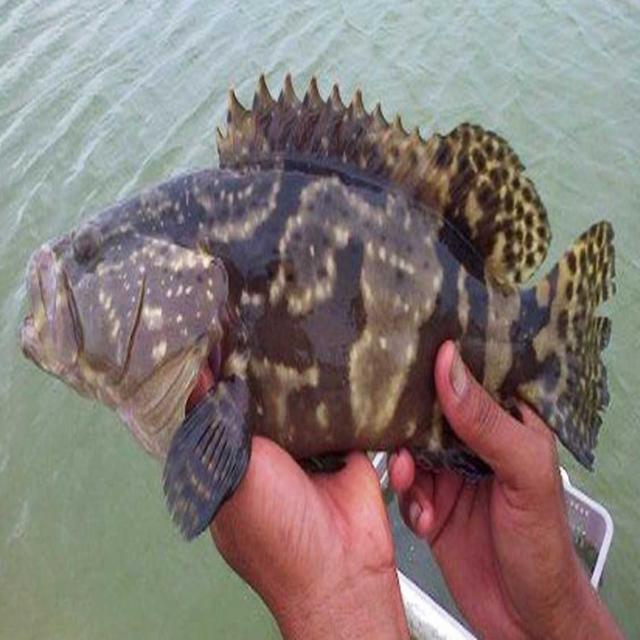grouper: (21, 69, 626, 526)
